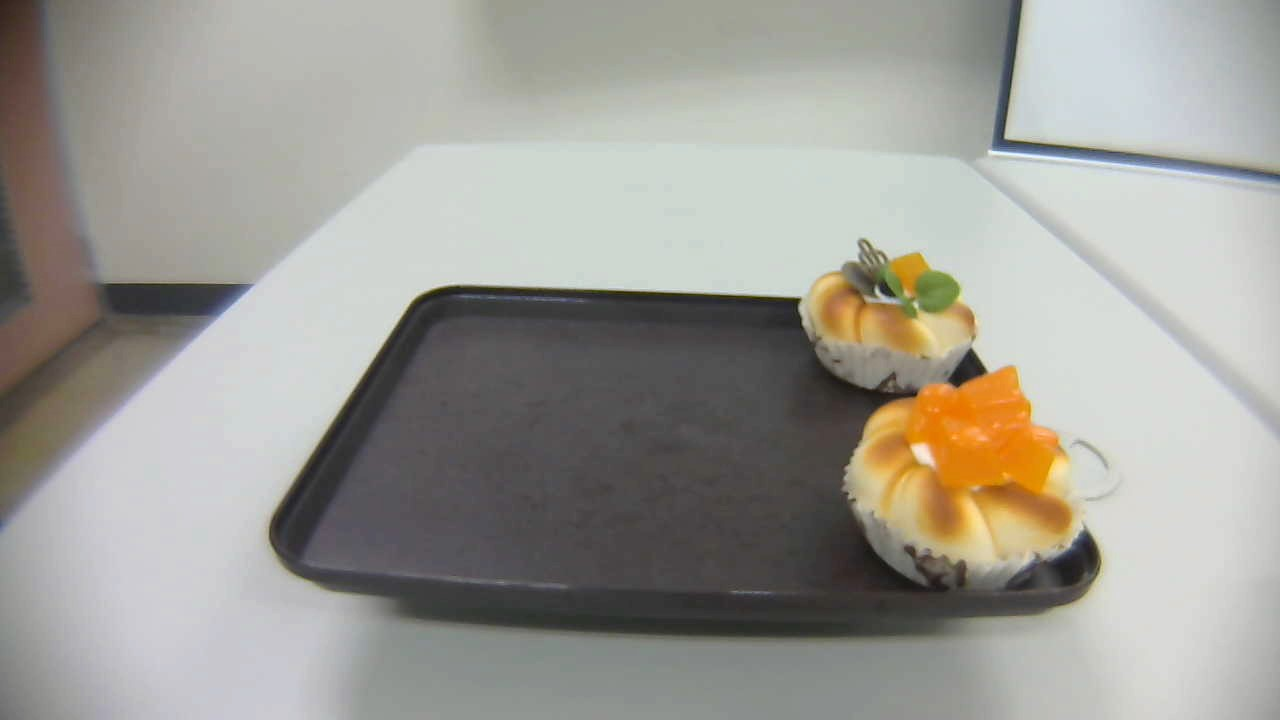fruit tart: (798, 235, 979, 395)
mango tart: (842, 367, 1088, 595)
